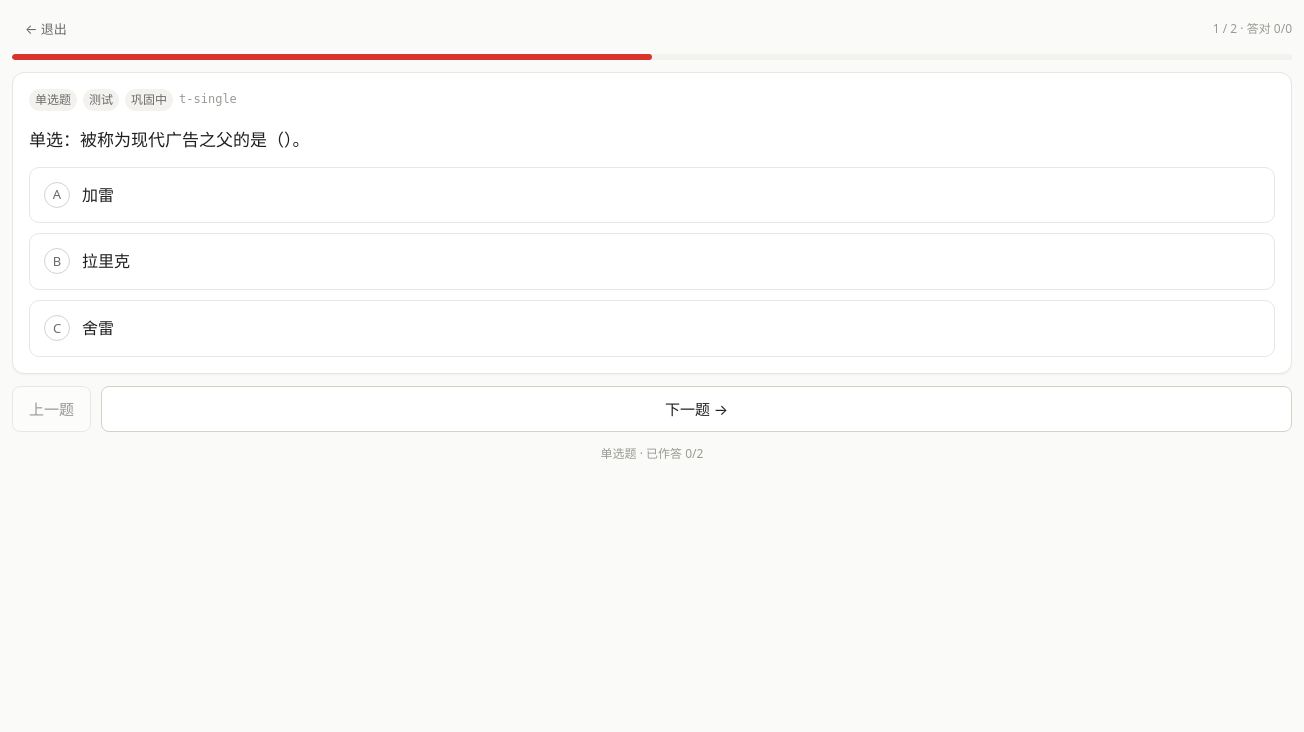
Scenario: 答题流程 · 下一题推进 › 单选题：未作答也允许跳过（选项按钮不该把流程卡死）
Click the button "下一题 →" at (696, 408), box [101,386,1292,432]
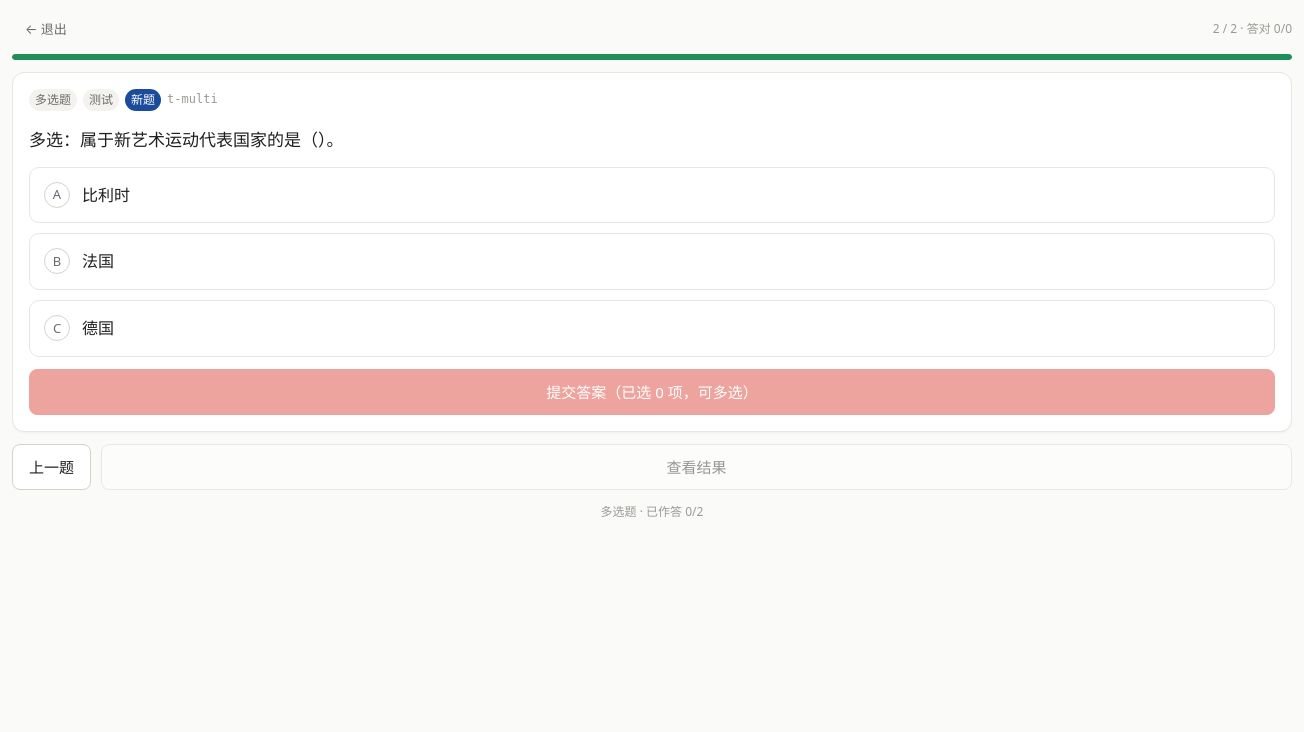
Check: the text "2 / 2 · 答对 0/0" is shown, box [1213,19,1292,39]
